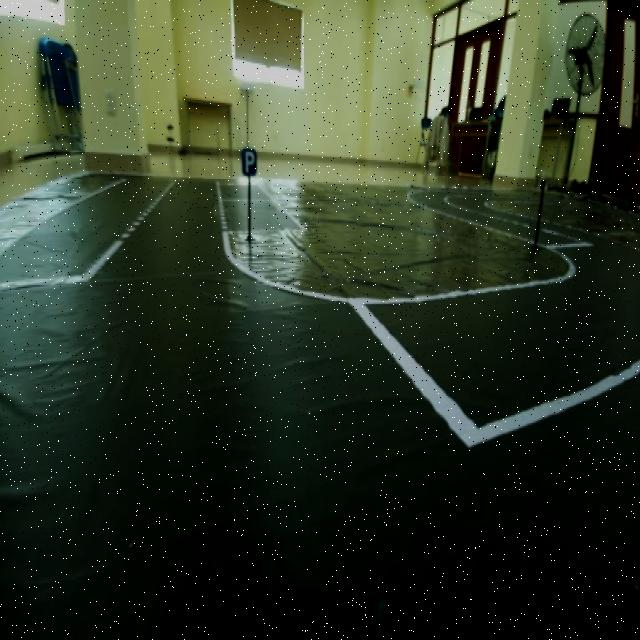parking: (240, 141, 258, 174)
